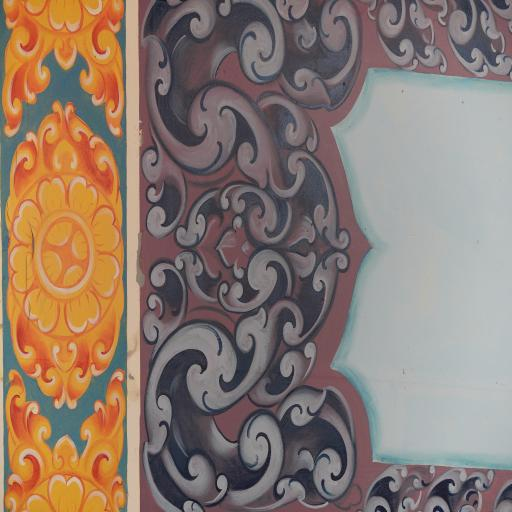hoa: (2, 169, 130, 338), (1, 0, 129, 32)
la: (140, 250, 360, 511), (141, 0, 365, 252), (6, 330, 131, 417), (14, 100, 120, 192), (67, 366, 130, 480), (364, 0, 450, 80), (73, 24, 132, 139), (2, 361, 58, 482), (0, 19, 53, 135), (438, 0, 512, 78), (0, 477, 127, 512), (425, 458, 498, 512), (359, 461, 426, 512)
